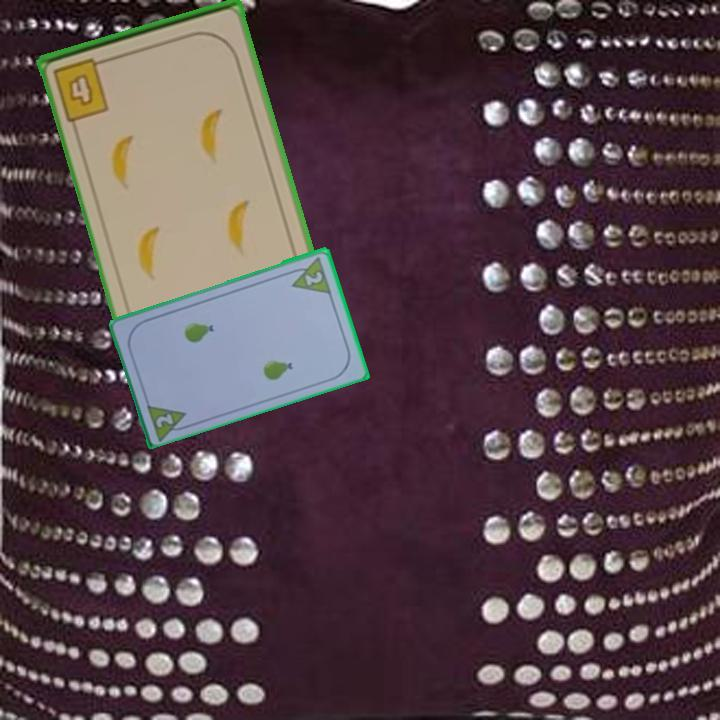2p: (285, 253, 334, 297), (152, 409, 177, 431)
4b: (50, 54, 113, 124)
